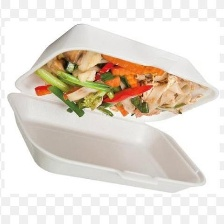foam_box: (1, 18, 224, 200)
